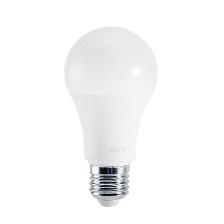light_bulb: (56, 16, 165, 210)
